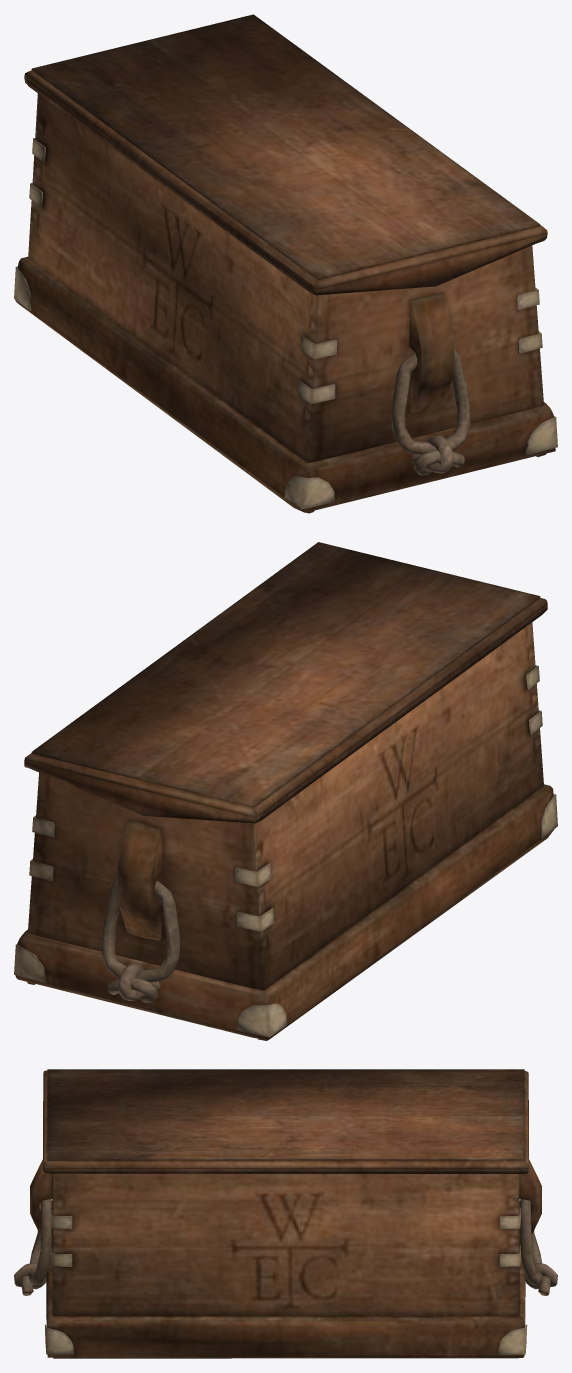
File: crate_long.glb
3 views of the same model, one above another, from view 1: azimuth 30°, elevation 25°; view 2: azimuth 150°, elevation 25°; view 3: azimuth 270°, elevation 25° (orthographic). The views are drawn at different scales.
Visible parts, largest first — view 1: wooden_crate_02_crate; view 2: wooden_crate_02_crate; view 3: wooden_crate_02_crate.
Boxes of the visible parts, x1,y1,x2,y2 form: wooden_crate_02_crate: (14, 14, 557, 513); wooden_crate_02_crate: (14, 542, 557, 1040); wooden_crate_02_crate: (14, 1069, 557, 1358).
Size of the model in its own units: 0.5291 by 0.4628 by 1.16.
Materials: 1 (1 with a texture image).
